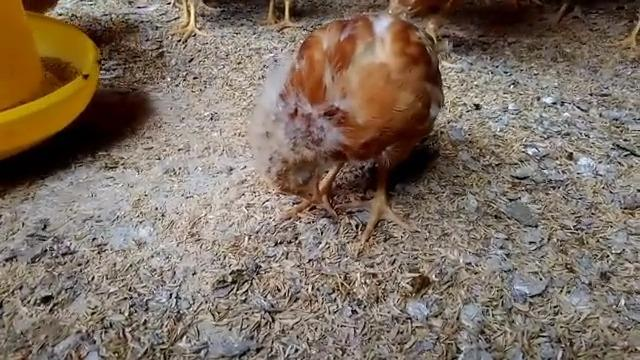AbNormal: (272, 14, 441, 241)
